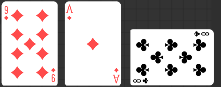8C: (192, 30, 210, 37)
9D: (3, 4, 9, 21)
AD: (111, 66, 120, 84)
